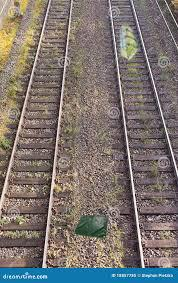Dust_screen: (66, 211, 113, 239)
Green_house: (116, 22, 137, 63)
